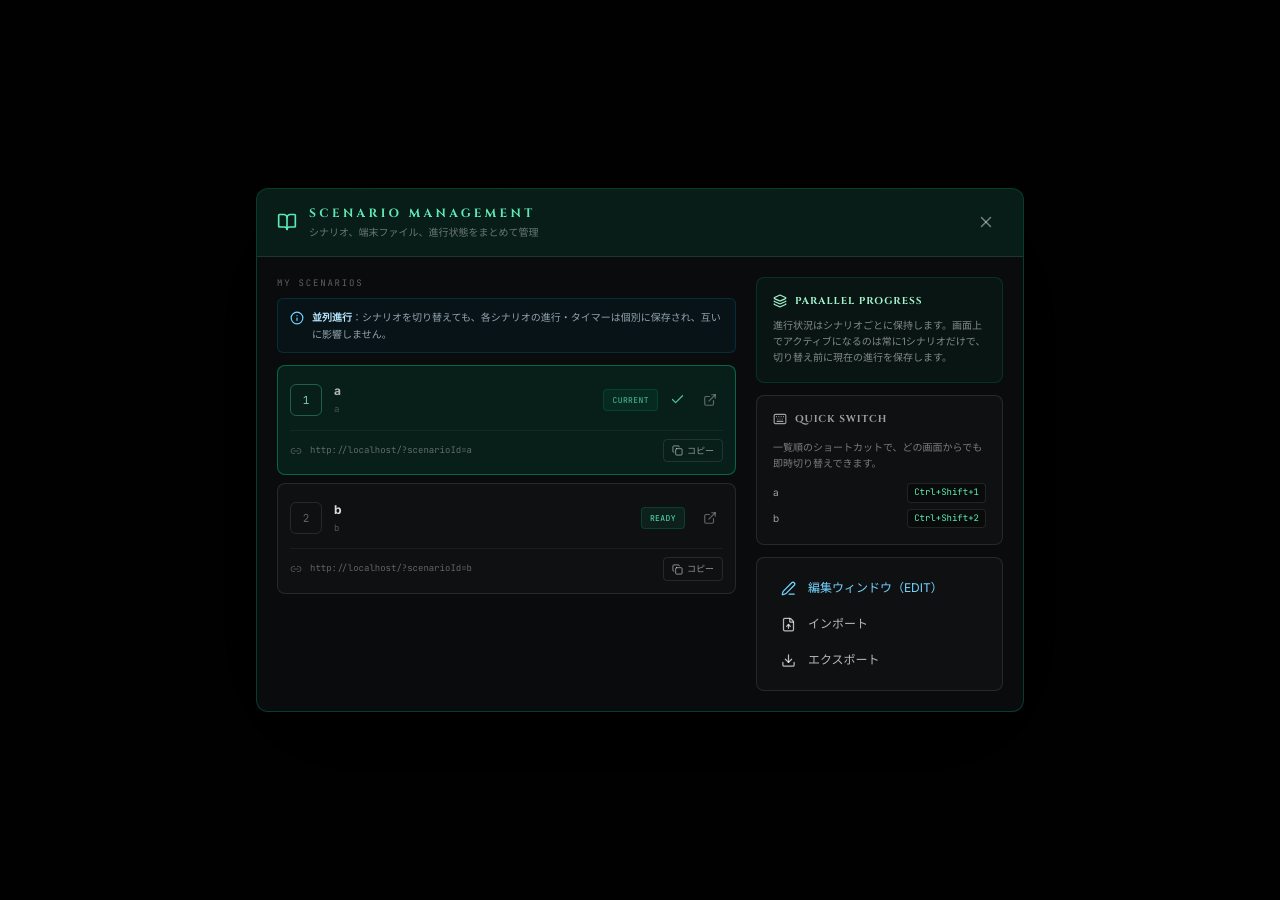
it: shows failure and permits retry instead of silently disappearing
Click the button "2 b b READY" at (306, 518), box [290, 496, 685, 540]
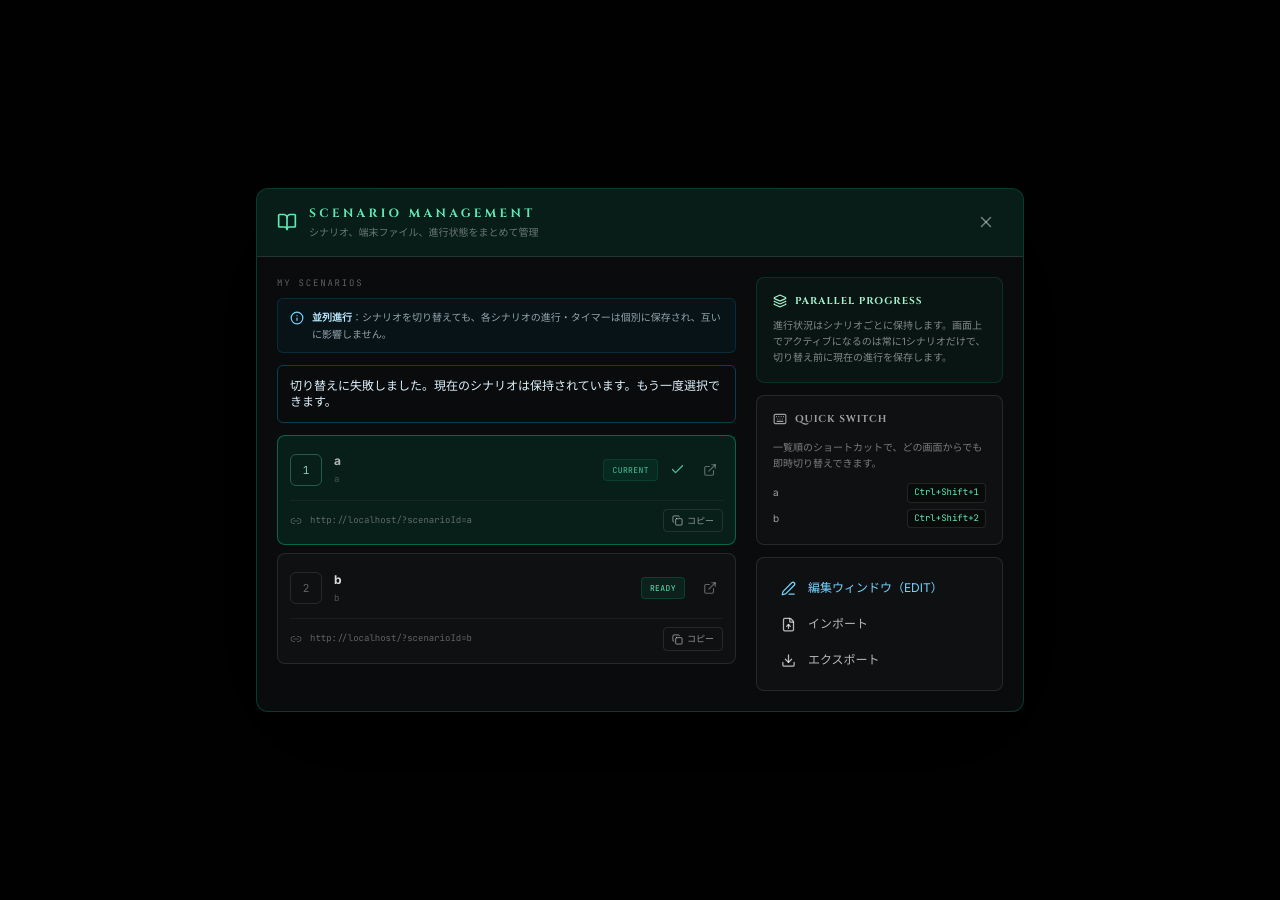
Result: the message "切り替えに失敗しました。現在のシナリオは保持されています。もう一度選択できます。" is shown at [277, 365, 736, 423]
Click the button "2 b b READY" at (306, 588), box [290, 566, 685, 610]
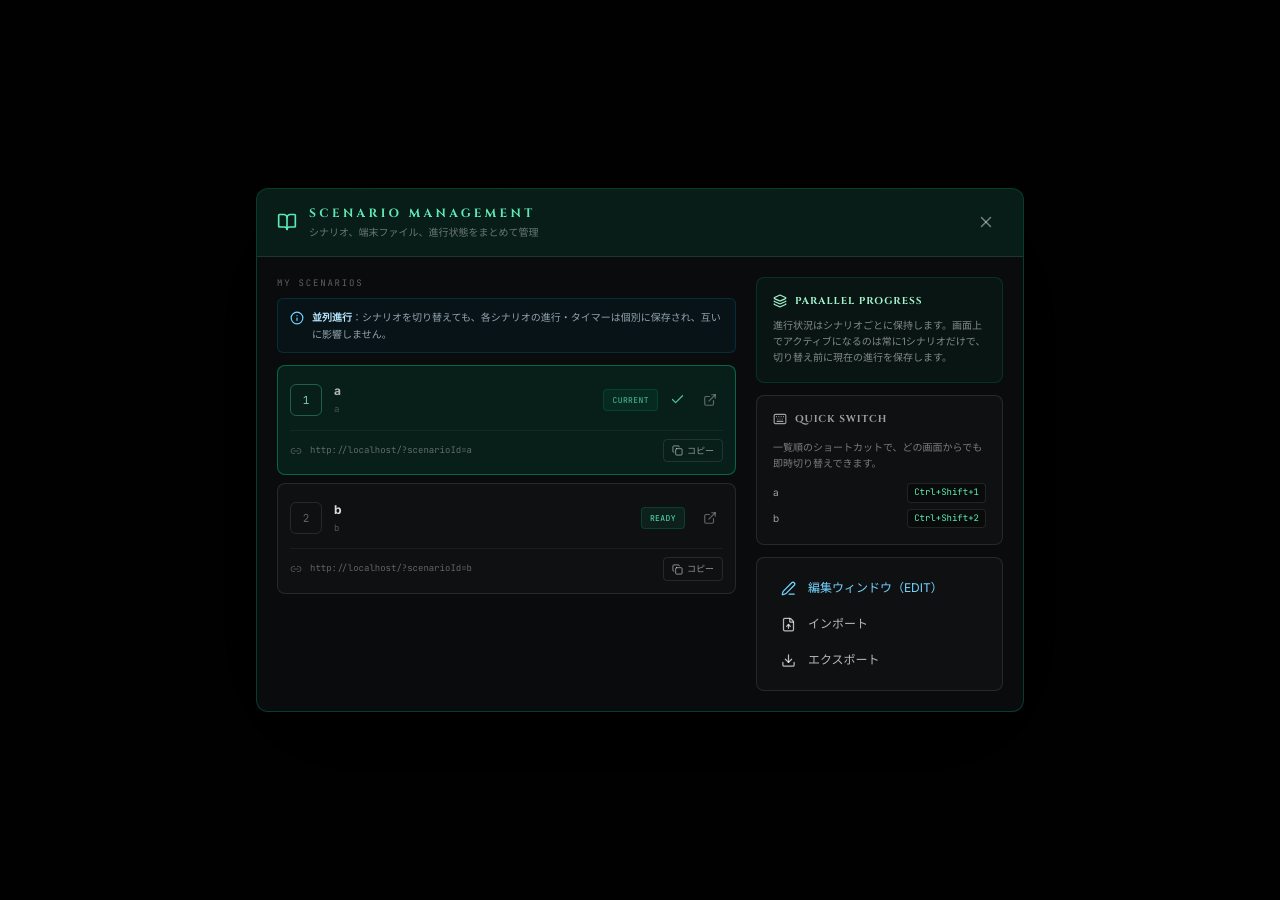
Result: the message "切り替えに失敗しました。現在のシナリオは保持されています。もう一度選択できます。" is gone
